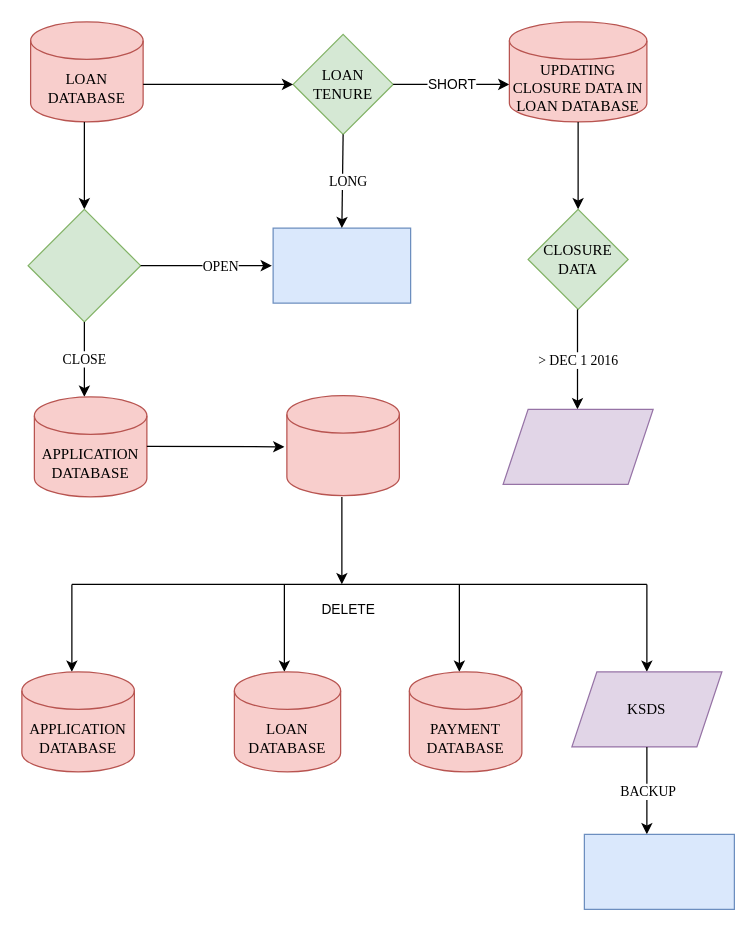
This 756x931 diagram has some shape labels left out. Each missing label, with the centre of its shape:
FINAL REPORT: point 577,446
GDG BACKUP: point 658,871
HISTORY DATABASE: point 342,445
LOAN INDICATOR: point 84,265
NO ACTIONS REQUIRED: point 341,265
